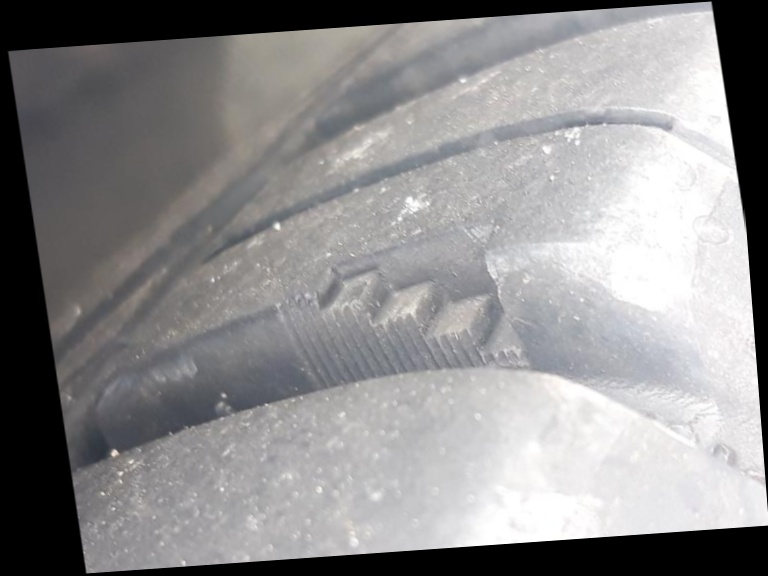temoin:90: (258, 208, 549, 406)
